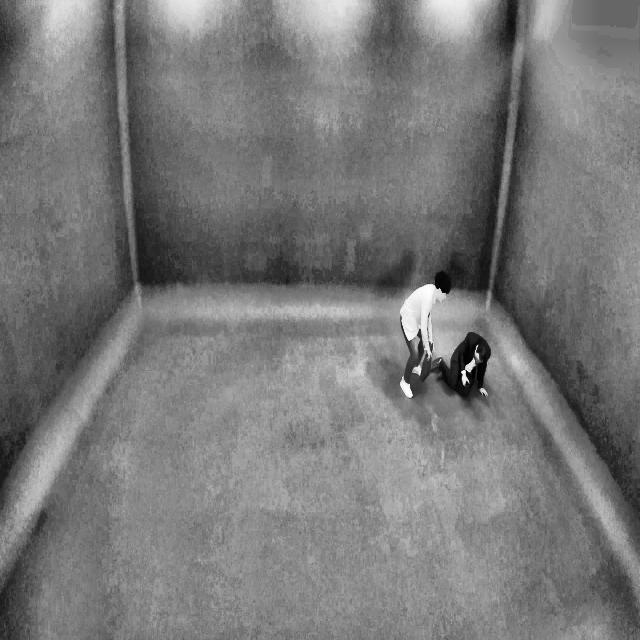assult: (397, 265, 494, 409), (432, 317, 492, 403)
